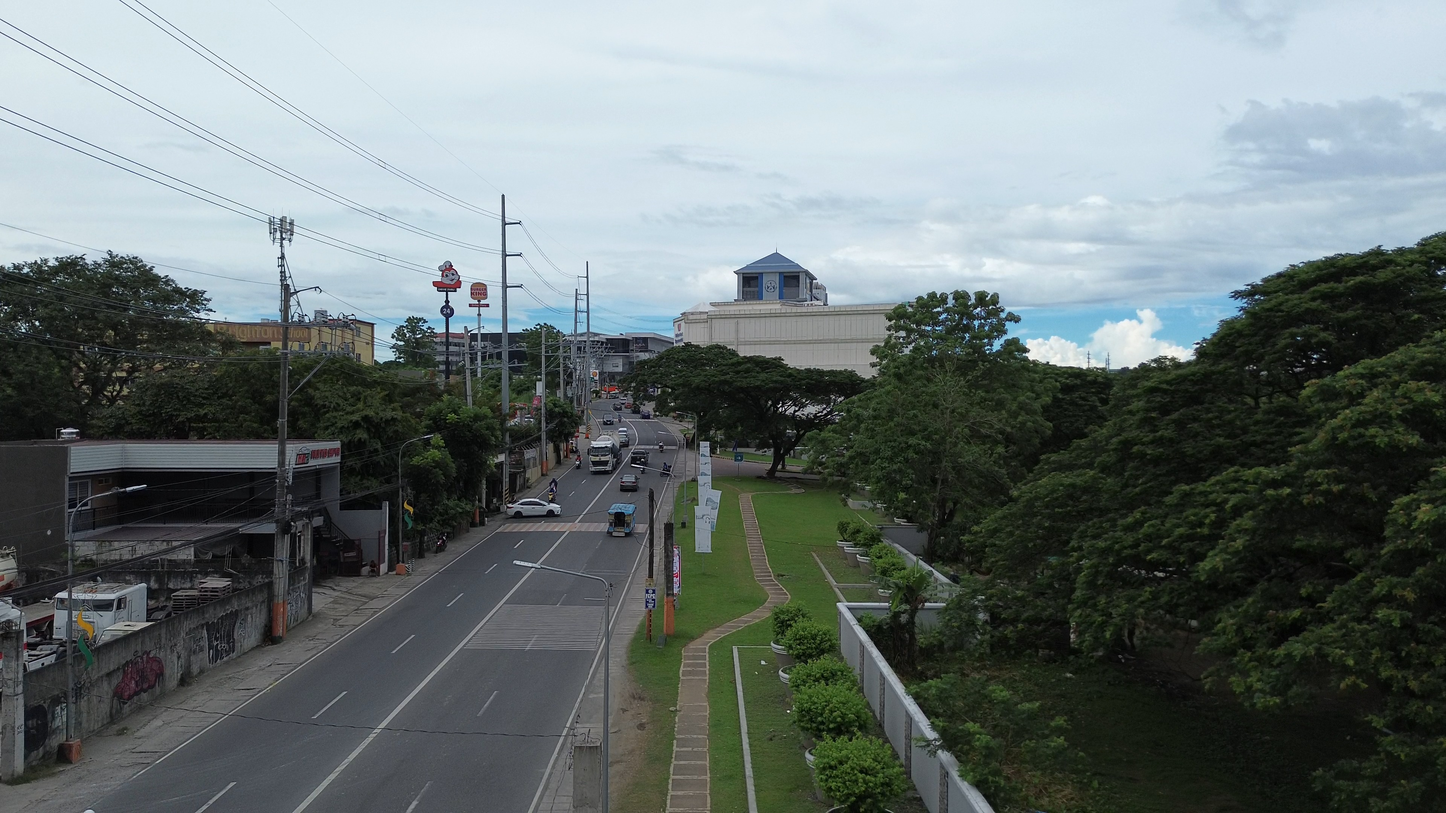car: (506, 498, 561, 518)
motorcycle: (435, 533, 448, 553)
truck: (589, 434, 620, 473)
vehicle: (53, 583, 146, 639), (97, 621, 152, 643), (608, 502, 636, 536), (619, 473, 639, 491), (629, 449, 649, 465), (616, 427, 630, 447), (660, 463, 671, 477), (601, 415, 615, 425), (629, 403, 640, 414), (640, 409, 652, 419), (612, 402, 623, 411)
